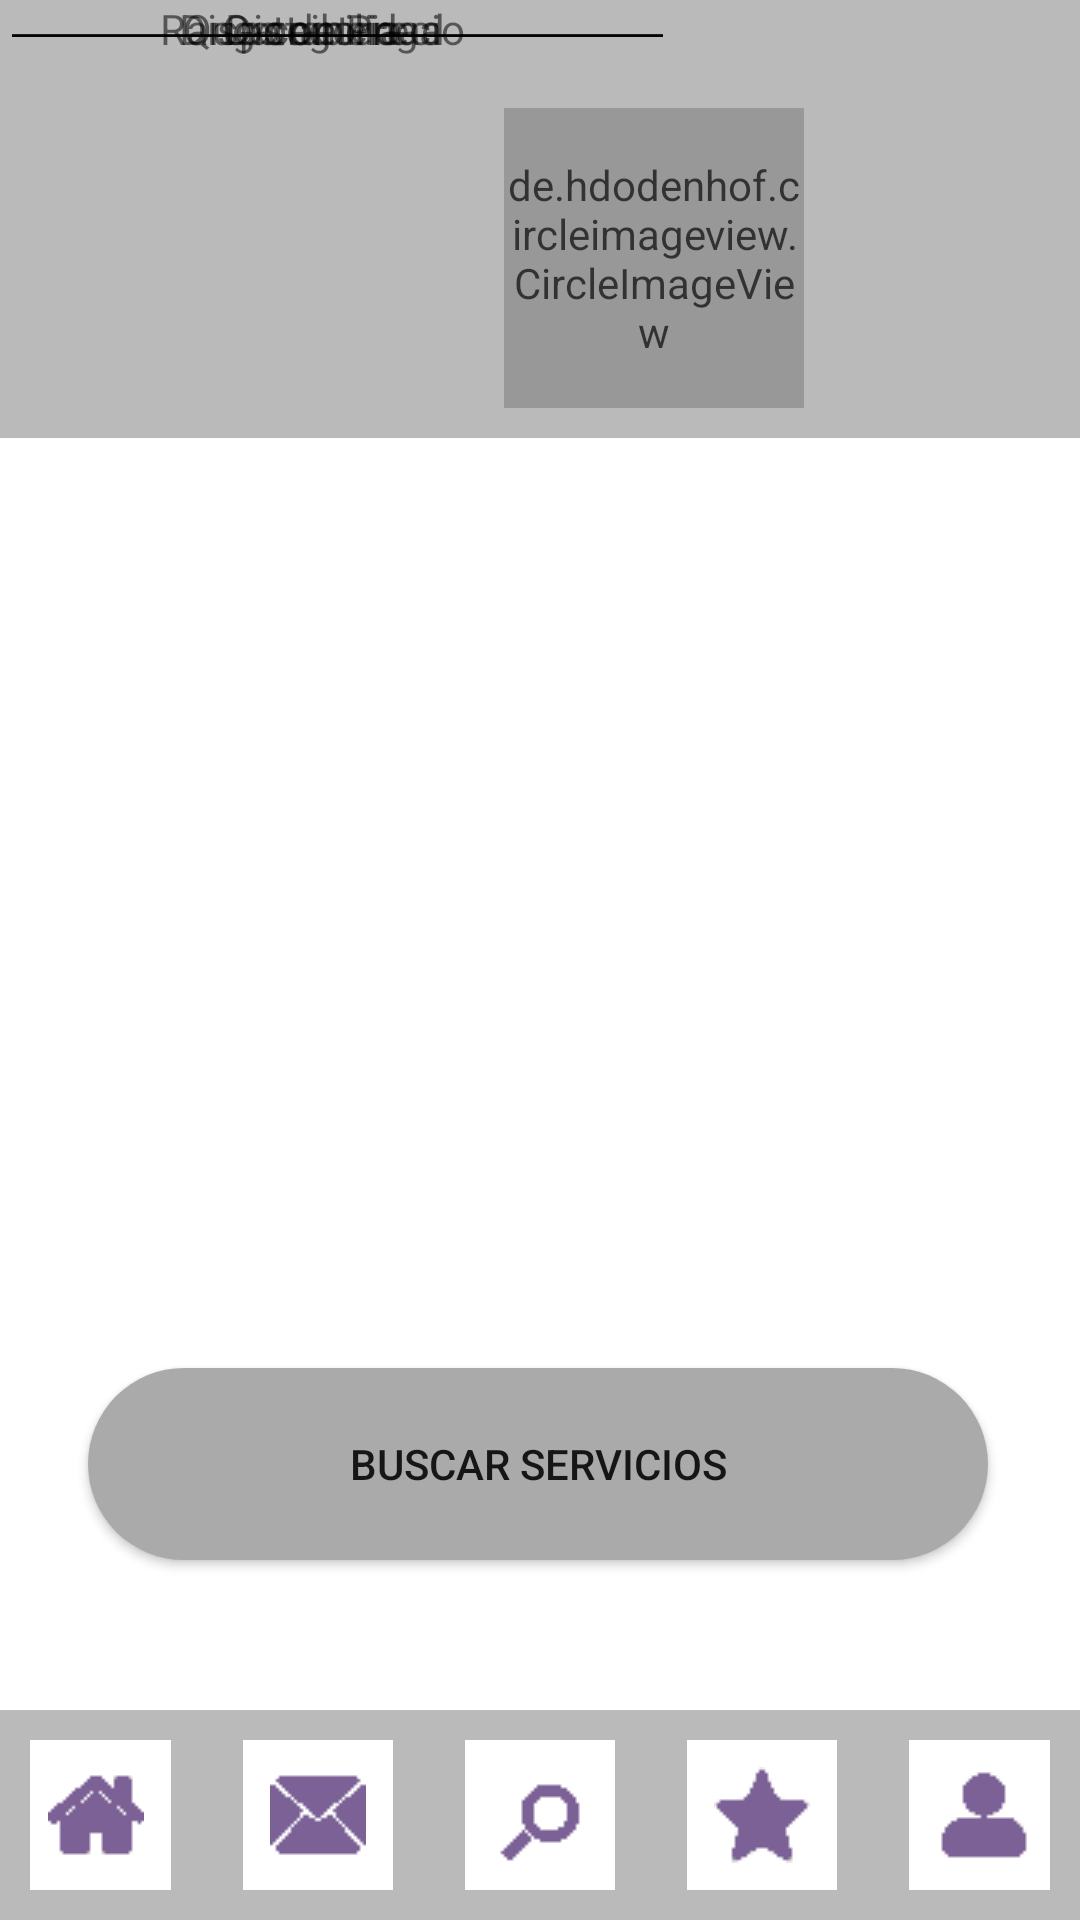

Where icons sit on this 1080×1920 app screen, as {"left": x1, "top": y1, "right": x2, "bottom": y2}:
buscar: {"left": 465, "top": 1740, "right": 615, "bottom": 1890}
buzon: {"left": 243, "top": 1740, "right": 393, "bottom": 1890}
favorito: {"left": 687, "top": 1740, "right": 837, "bottom": 1890}
inicio: {"left": 30, "top": 1740, "right": 171, "bottom": 1890}
perfil: {"left": 909, "top": 1740, "right": 1050, "bottom": 1890}
